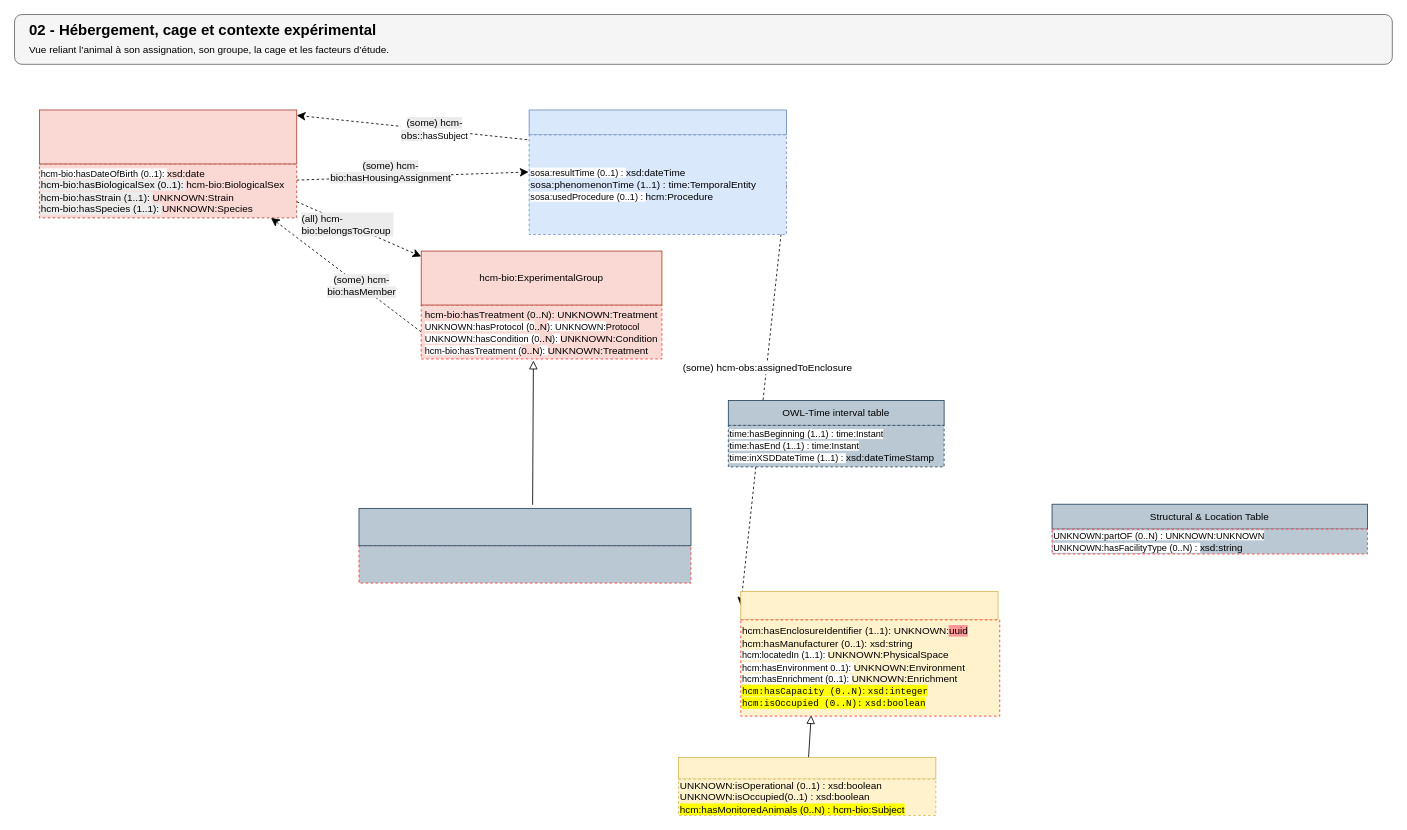
Image size: 1407x830. Some labels were removed from this diagram. Each missing label, with the centre of its shape:
"hcm-bio:Subject" goes at point 168,136.
"hcm-obs:HousingAssignment" goes at point 657,122.
"hcm:Enclosure" goes at point 869,605.
"hcm:MonitoredEnclosure" goes at point 807,768.
"hcm:StudyFactors" goes at point 524,527.
"UNKNOWN:hasName (0..N): xsd:string UNKNOWN:hasType (0..N): xsd:string" goes at point 524,564.
